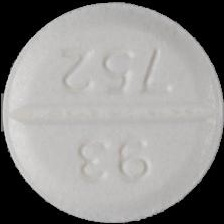61919-664: (0, 0, 224, 224)
